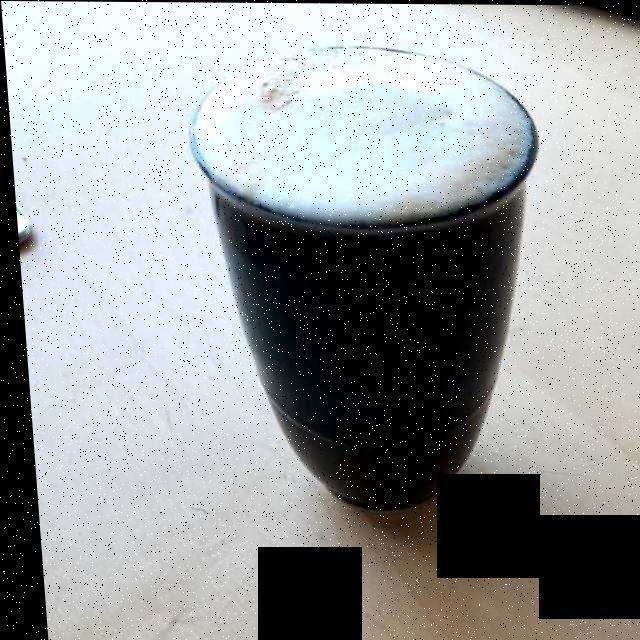cappuccino: (196, 65, 520, 212)
